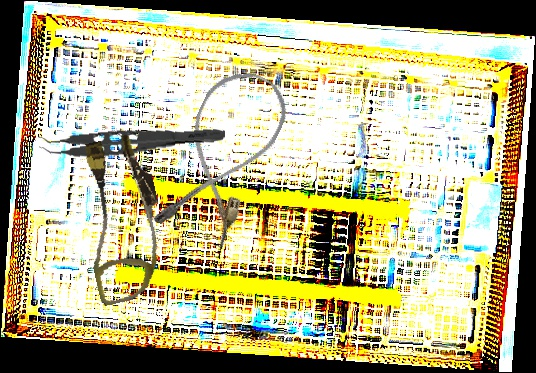Cannula: (148, 58, 298, 254), (65, 131, 179, 307)
Tissue Forceps: (37, 112, 227, 164)
